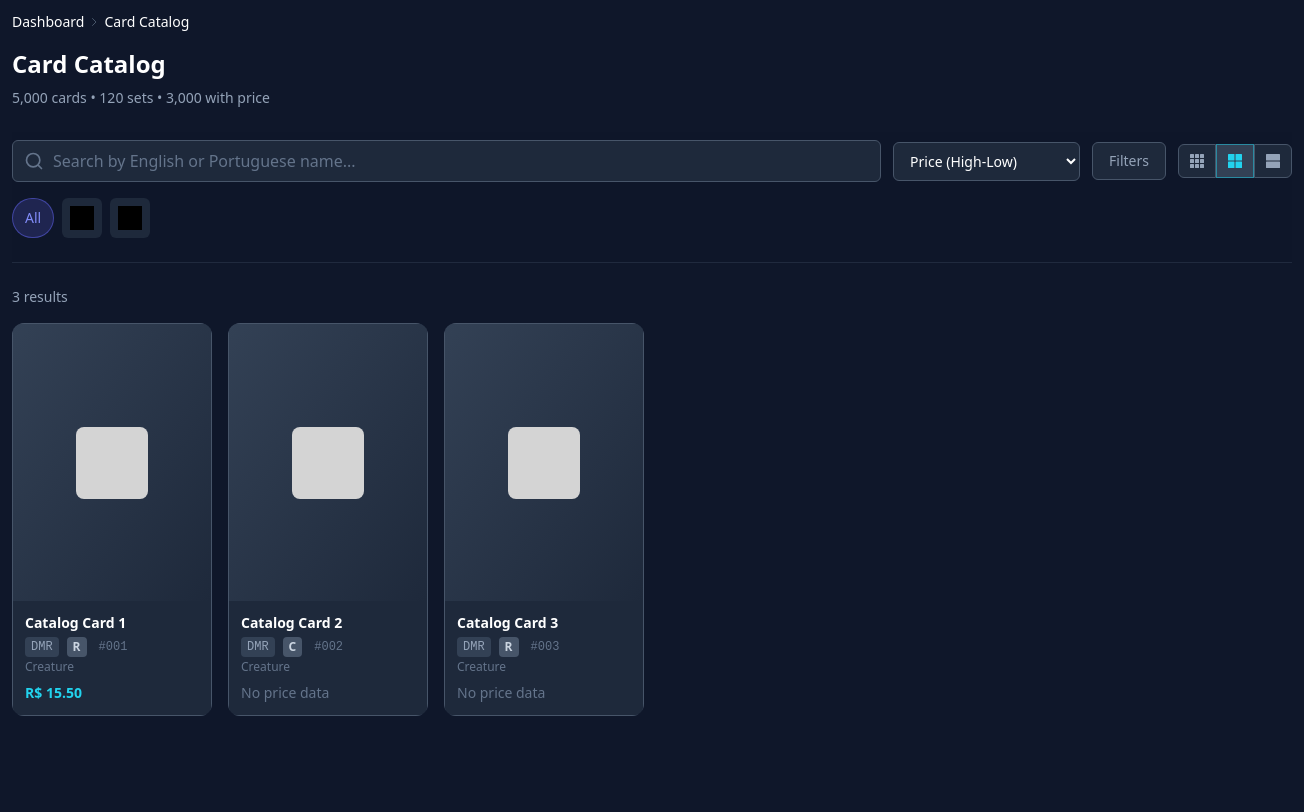
Test: CatalogPage › filter section toggles when button is clicked
Expected: the element with test id "catalog-grid" is shown, [12,323,644,716]
Click the filters button
Click the button with test id "toggle-filters-btn" at (1129, 161), box [1092,142,1166,180]
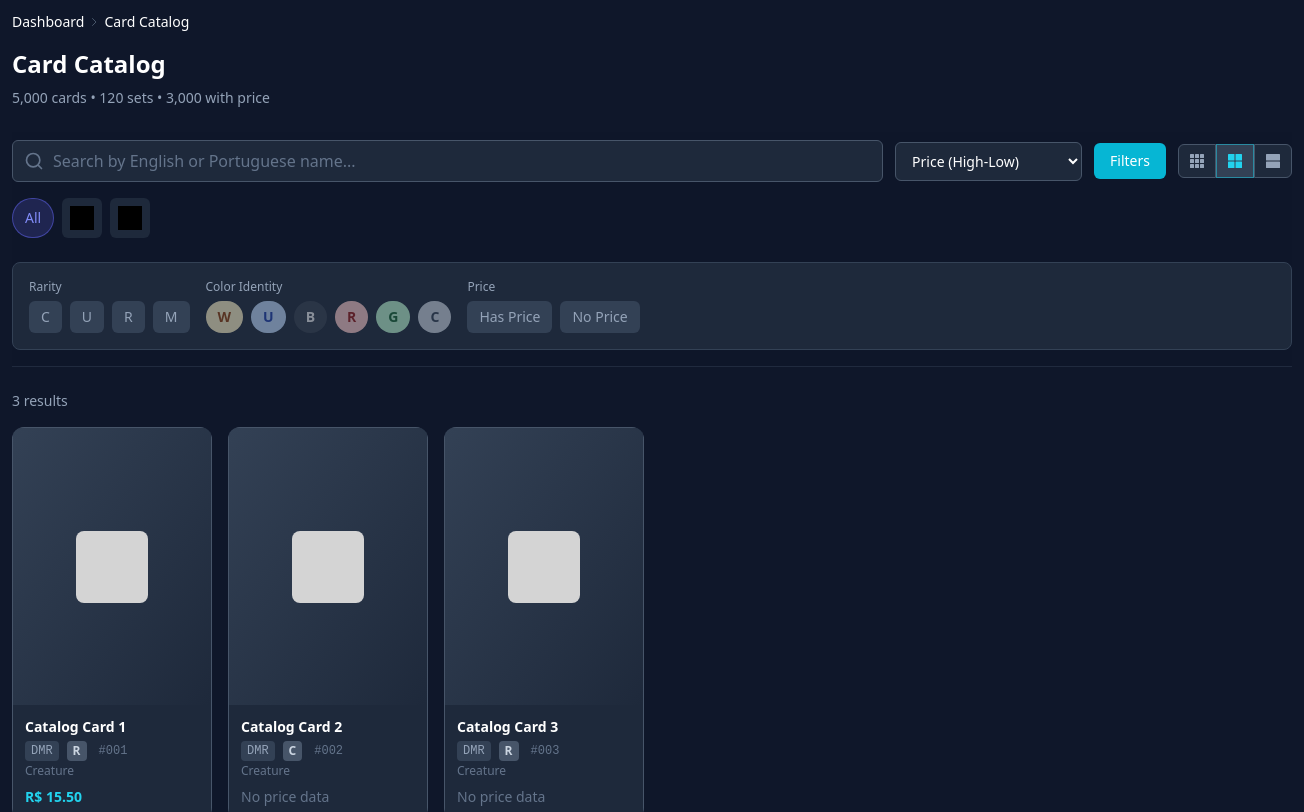
Expected: the element with test id "filter-section" is shown, [12,262,1292,350]
